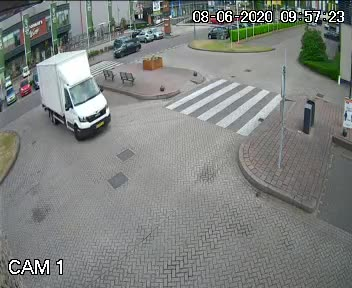car: (30, 46, 117, 152), (319, 19, 344, 43), (199, 25, 231, 41), (111, 41, 142, 55), (133, 28, 154, 42), (5, 82, 16, 105), (20, 78, 31, 99), (144, 26, 161, 37), (20, 63, 30, 78), (2, 73, 11, 88)
